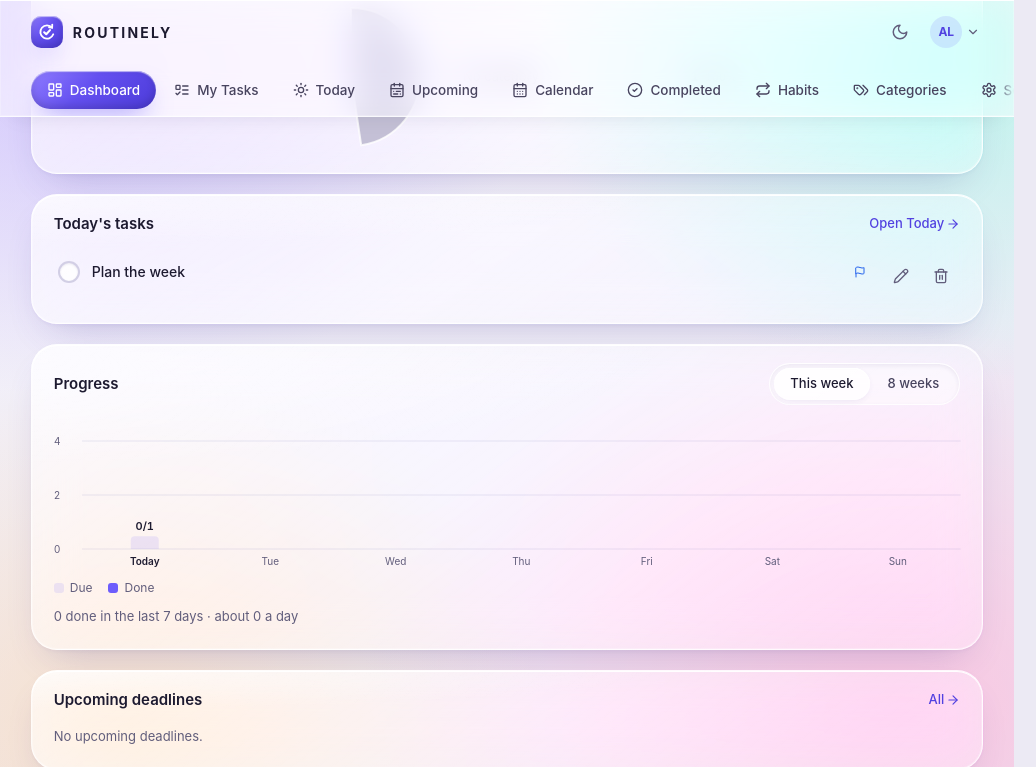
Test: navigation and layout › shows a focused dashboard with one switchable progress chart
(page scrolled)
Expected: the button "Plan the week" is shown, [92,261,185,282]
Expected: the text "Tasks planned and done each day this week" is shown, [53,570,345,591]
What coordinates should you click on to do the following:
click the button "8 weeks"
I would click on:
 (913, 384)
Its box is [872,368,955,400].
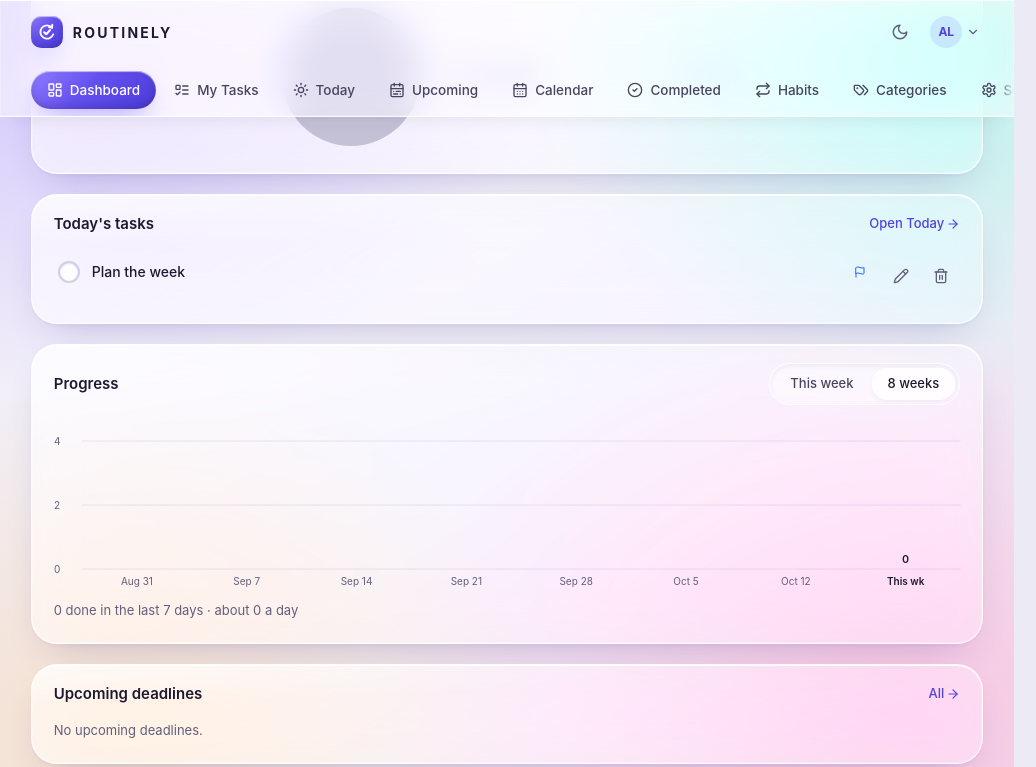
Expected: the text "Tasks completed per week, last 8 weeks" is shown, [86,592,354,609]
